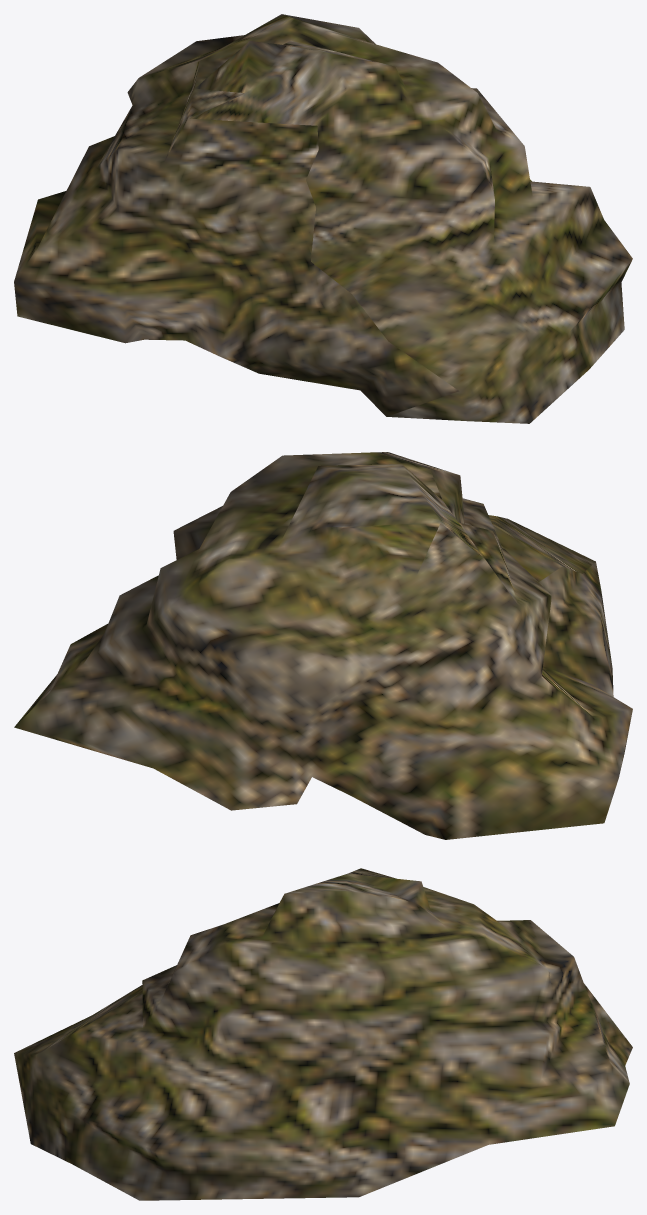
The model's file is SM_Plains_LargeRock_SpireLOD2.FBX.
The picture shows the model from 3 angles, top to bottom: view 1: azimuth 30°, elevation 25°; view 2: azimuth 150°, elevation 25°; view 3: azimuth 270°, elevation 25°; orthographic projection. The views are drawn at different scales.
Parts seen in each view (by area): view 1: SM_Plains_LargeRock_SpireLOD2; view 2: SM_Plains_LargeRock_SpireLOD2; view 3: SM_Plains_LargeRock_SpireLOD2.
Boxes of the visible parts, x1=… form: SM_Plains_LargeRock_SpireLOD2: x1=14, y1=14, x2=632, y2=423; SM_Plains_LargeRock_SpireLOD2: x1=14, y1=452, x2=632, y2=839; SM_Plains_LargeRock_SpireLOD2: x1=14, y1=868, x2=632, y2=1200.
Bounding box in the file's own units: 512 × 250 × 589.
